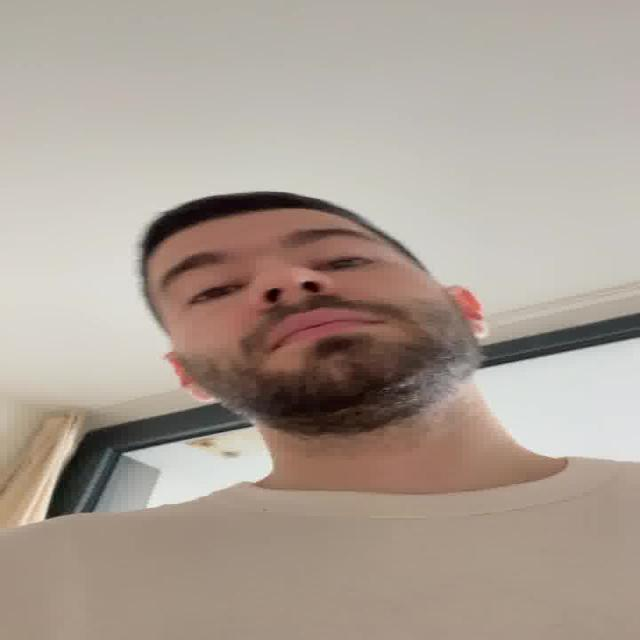earlobe: (163, 352, 217, 402), (445, 285, 489, 341)
